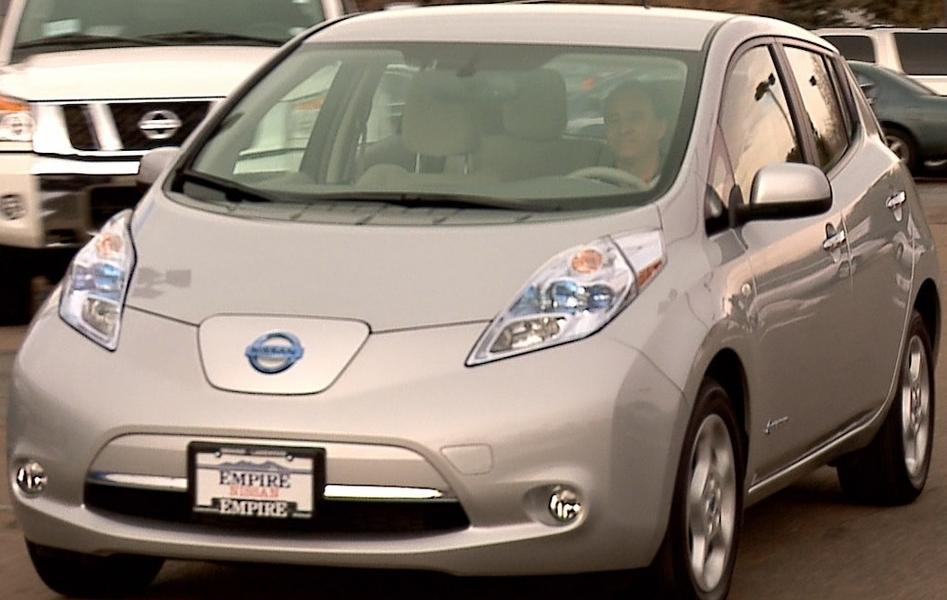front_view: (6, 236, 676, 566)
headlight: (445, 237, 672, 383)
side_glass: (690, 27, 857, 202)
